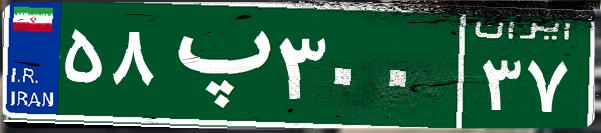0: (385, 28, 445, 110), (330, 28, 385, 110)
3: (273, 28, 330, 110), (475, 38, 525, 113)
5: (57, 26, 110, 107)
7: (525, 38, 570, 115)
8: (110, 28, 158, 105)
پ: (158, 15, 273, 115)
